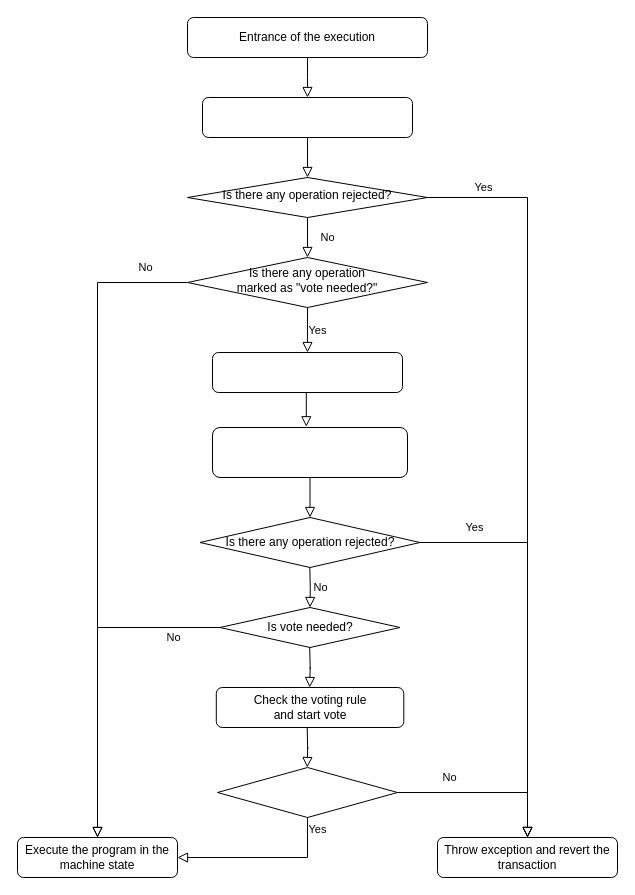
Some shapes in this 635 by 895 pixel diagram are drawn without their labels. Each missing label, with the centre of its shape:
"Check each operation and machine state by before-operation plugins" belongs at point 307,117.
"Check each operation and the sandbox by after-operation plugins" belongs at point 310,452.
"Clone the machine state to the sandbox" belongs at point 307,372.
"Is the program approved?" belongs at point 307,792.
